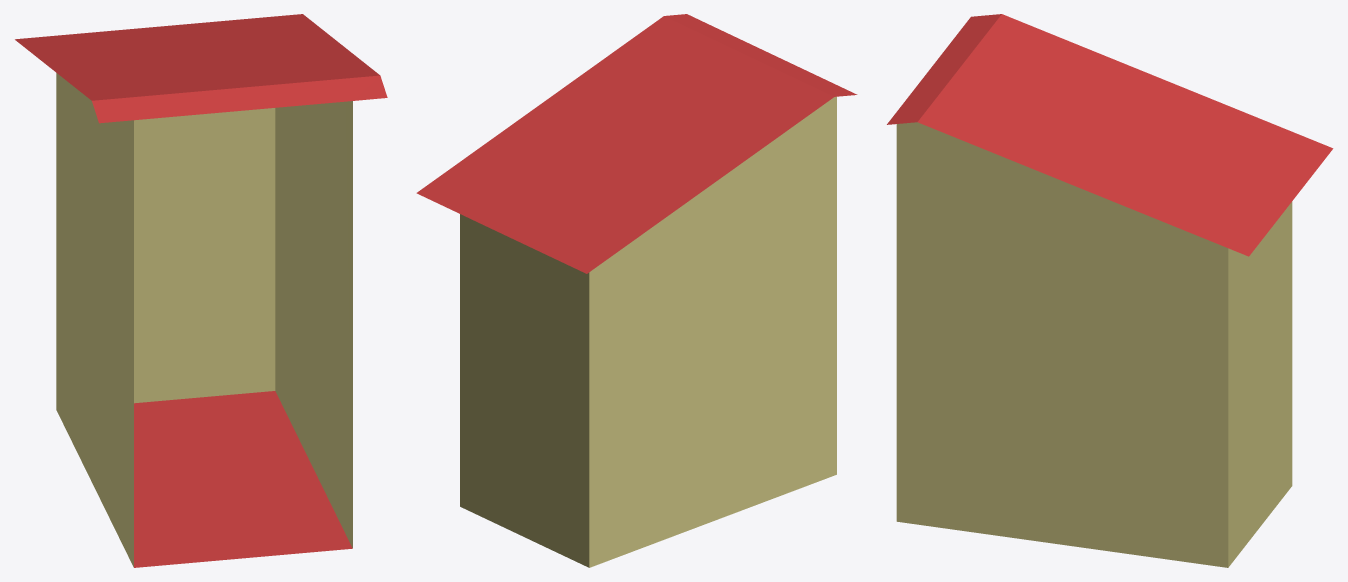
3 views of the same model, side by side, from view 1: azimuth 30°, elevation 25°; view 2: azimuth 150°, elevation 25°; view 3: azimuth 270°, elevation 25° (orthographic). The views are drawn at different scales.
Size of the model in its own units: 5.77 by 6.86 by 7.06.
